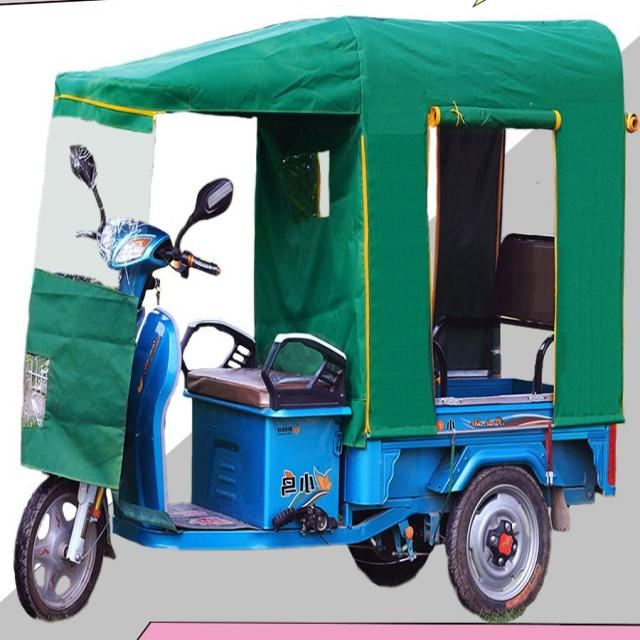tricycle: (13, 15, 628, 622)
